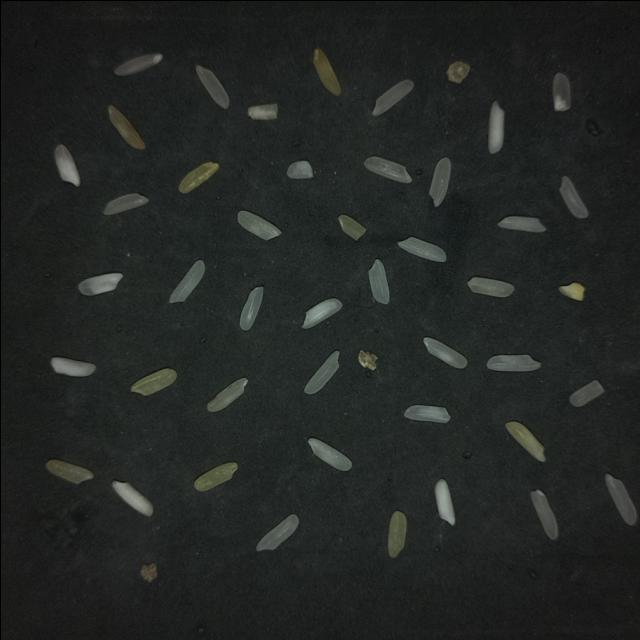broken: (256, 513, 299, 550), (372, 79, 414, 115), (179, 161, 219, 193), (365, 156, 412, 182), (570, 379, 604, 405), (553, 72, 571, 110), (338, 214, 365, 239), (446, 60, 470, 82), (287, 160, 313, 178), (248, 103, 277, 119)
chalky: (112, 480, 153, 515), (302, 297, 342, 328), (78, 272, 123, 295), (55, 144, 80, 185), (435, 478, 455, 525), (487, 99, 504, 153), (50, 356, 95, 376)
damaged: (108, 104, 145, 148)
discolored: (506, 421, 545, 460), (43, 457, 94, 484), (313, 47, 340, 95), (131, 367, 177, 395), (194, 461, 238, 490), (388, 510, 407, 556), (559, 282, 585, 300)
foreign: (358, 349, 377, 369), (140, 562, 157, 581)
whole: (605, 473, 637, 524), (169, 259, 205, 302), (305, 350, 339, 393), (308, 437, 352, 470), (196, 64, 229, 108), (423, 337, 467, 368), (207, 377, 247, 411), (531, 489, 558, 538), (238, 210, 281, 239), (398, 236, 446, 261), (560, 176, 589, 217), (115, 52, 162, 75), (240, 286, 264, 330), (104, 192, 149, 214), (430, 157, 450, 205), (468, 276, 514, 296), (369, 258, 389, 303), (487, 354, 540, 370), (405, 404, 450, 422), (498, 215, 546, 231)
